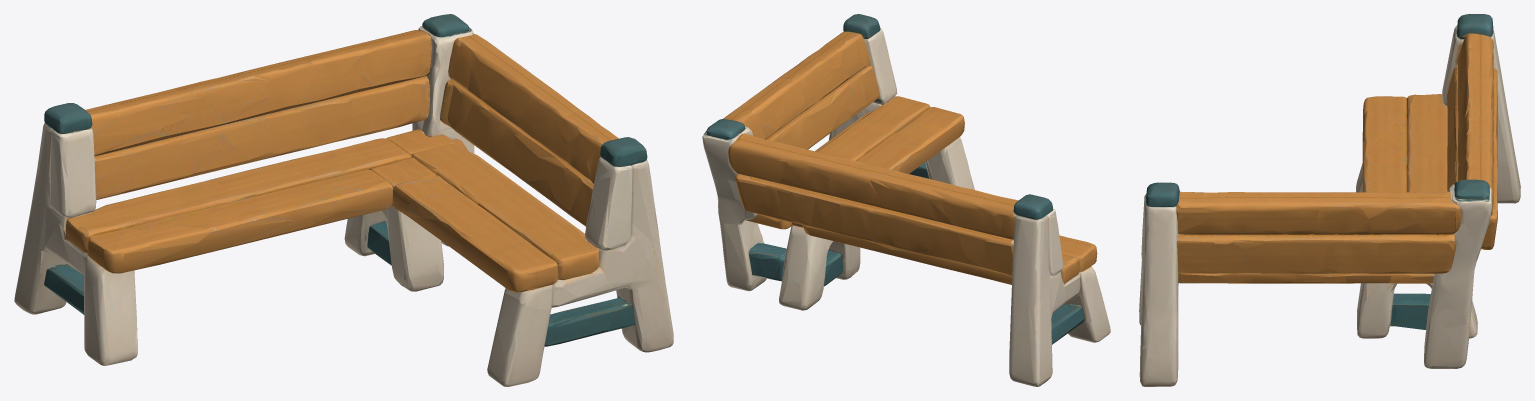
Rendered from model-village-expansion-parkBench-1d0ed7832f1b.glb.
3 renders of one model, left to right at view 1: azimuth 30°, elevation 25°; view 2: azimuth 150°, elevation 25°; view 3: azimuth 270°, elevation 25°, orthographic. The views are drawn at different scales.
Parts seen in each view (by area): view 1: Mesh_0; view 2: Mesh_0; view 3: Mesh_0.
Boxes of the visible parts, x1,y1,x2,y2 form: Mesh_0: [14, 14, 673, 386]; Mesh_0: [702, 14, 1110, 386]; Mesh_0: [1139, 14, 1520, 386].
Size of the model in its own units: 0.9894 by 0.4299 by 0.8.
1 material, 1 textured.
